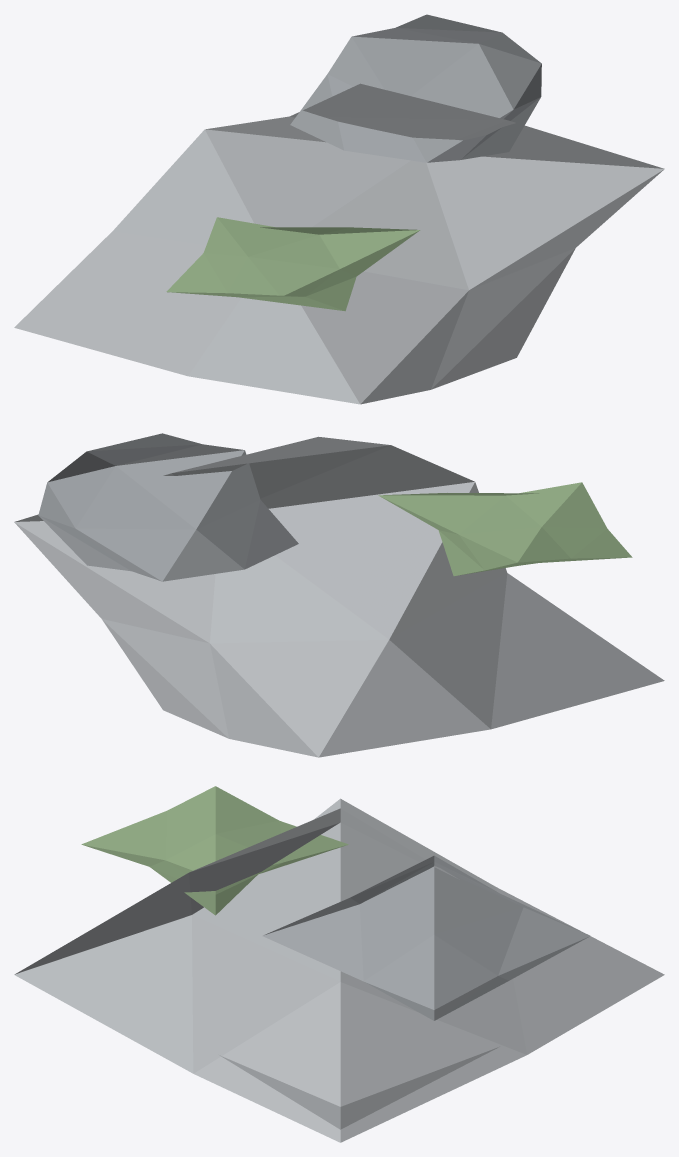
The model's file is boulder_v16.glb.
3 renders of one model, top to bottom at view 1: azimuth 30°, elevation 25°; view 2: azimuth 150°, elevation 25°; view 3: azimuth 270°, elevation 25°, orthographic. The views are drawn at different scales.
Visible parts, largest first — view 1: lod0; view 2: lod0; view 3: lod0.
Boxes of the visible parts, box(x1,y1,x2,y2) form: lod0: box(14, 14, 664, 404); lod0: box(14, 433, 664, 757); lod0: box(14, 786, 664, 1142).
Size of what is drawn, in the model's own units: 2.76 by 1.34 by 2.29.
